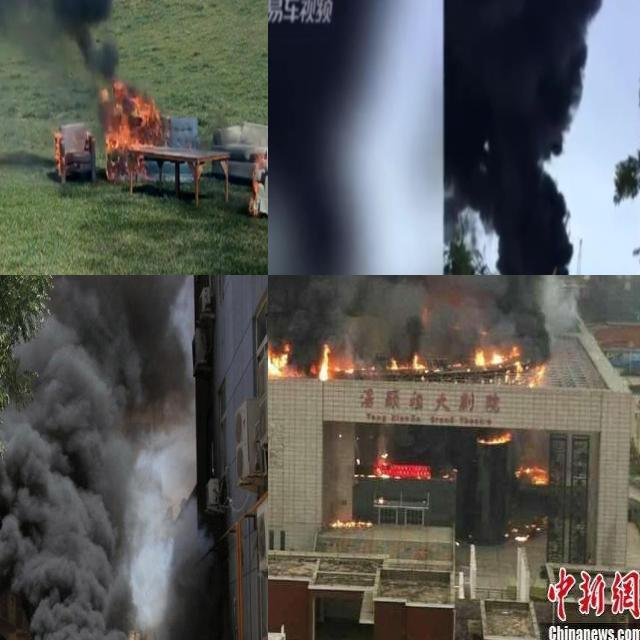fire: (100, 80, 163, 183), (470, 341, 544, 382), (249, 155, 265, 215), (268, 339, 292, 378), (392, 351, 427, 374), (328, 511, 372, 529), (312, 343, 333, 378), (517, 461, 548, 484), (53, 130, 65, 178), (478, 430, 512, 446), (388, 355, 411, 371), (388, 355, 400, 370)
smoke: (0, 275, 198, 640), (447, 0, 605, 275)
